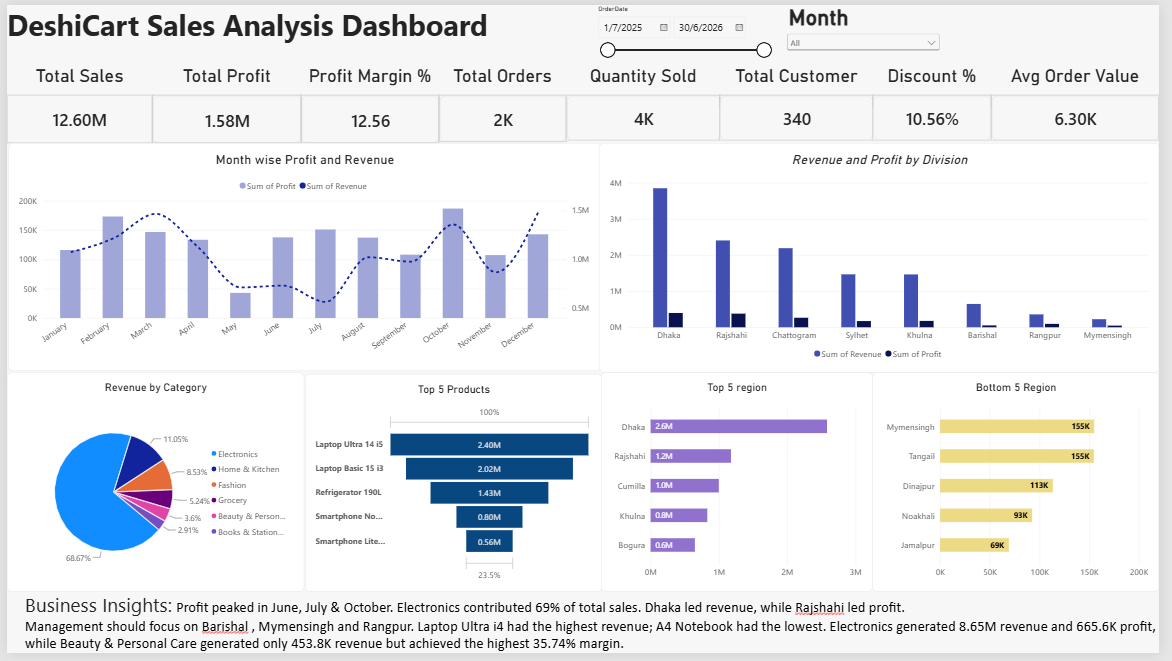

Layout of this report page (visuals, bound fields, positions):
{"tool":"powerbi","page":{"name":"Page 1","canvas":[1920,1080],"ordinal":0},"visuals":[{"type":"cardVisual","title":"Total Sales","fields":{"Data":["Sum(Clean_data.Revenue)"]},"box":[0,100,242,130],"z":0},{"type":"cardVisual","title":"Total Profit","fields":{"Data":["Sum(Clean_data.Profit)"]},"box":[242,100,248,130],"z":1000},{"type":"cardVisual","title":"Profit Margin %","fields":{"Data":["Clean_data.Profit Margin %"]},"box":[490,100,230,130],"z":2000},{"type":"cardVisual","title":"Total Orders","fields":{"Data":["CountNonNull(Clean_data.OrderID)"]},"box":[720,100,212,128],"z":3000},{"type":"cardVisual","title":"Quantity Sold","fields":{"Data":["Sum(Clean_data.Quantity)"]},"box":[932,100,256,126],"z":4000},{"type":"cardVisual","title":"Avg Order Value","fields":{"Data":["Clean_data.Avg Order Value"]},"box":[1640,100,280,126],"z":5000},{"type":"cardVisual","title":"Discount %","fields":{"Data":["Avg(Clean_data.Discount)"]},"box":[1442,100,198,126],"z":6000},{"type":"cardVisual","title":"Total Customer","fields":{"Data":["Count(Clean_data.CustomerID)"]},"box":[1188,100,256,126],"z":7000},{"type":"lineStackedColumnComboChart","title":" Month wise Profit and  Revenue","fields":{"Category":["Clean_data.OrderDate.Variation.Date Hierarchy.Month"],"Y2":["Sum(Clean_data.Revenue)"],"Y":["Sum(Clean_data.Profit)"]},"box":[2,230,987.5,380],"z":8000},{"type":"pieChart","title":"Revenue by Category","fields":{"Category":["Clean_data.Category"],"Y":["Sum(Clean_data.Revenue)"]},"box":[0,612,495,365],"z":9000},{"type":"clusteredColumnChart","title":"Revenue and Profit by Division","fields":{"Category":["Clean_data.Division"],"Y":["Sum(Clean_data.Revenue)","Sum(Clean_data.Profit)"]},"box":[988,230,932.5,382.5],"z":10000},{"type":"funnel","title":"Top 5 Products","fields":{"Category":["Clean_data.ProductName"],"Y":["Sum(Clean_data.Revenue)"]},"box":[496.3,615.6,493.9,362.7],"z":11000},{"type":"clusteredBarChart","title":"Top 5 region","fields":{"Category":["Clean_data.District"],"Y":["Sum(Clean_data.Revenue)"]},"box":[990,612,452.5,365],"z":12000},{"type":"clusteredBarChart","title":"Bottom 5 Region","fields":{"Category":["Clean_data.District"],"Y":["Sum(Clean_data.Revenue)"]},"box":[1442,612,477.5,365],"z":13000},{"type":"textbox","box":[31,978.2,1889.6,102.6],"z":14000},{"type":"textbox","box":[0,0,932,78],"z":15000},{"type":"slicer","fields":{"Values":["Clean_data.OrderDate"]},"box":[978,0,300,100],"z":16000},{"type":"slicer","fields":{"Values":["Clean_data.OrderDate.Variation.Date Hierarchy.Month"]},"box":[1296,0,264,100],"z":17000}]}

Visuals, with their boxes in screenshot pixels (x1, y1, x2, y2), scaled from the page's 1920x1080 canvas onto the 1172x661 screenshot:
"Total Sales" cardVisual: crop(0, 61, 148, 141)
"Total Profit" cardVisual: crop(148, 61, 299, 141)
"Profit Margin %" cardVisual: crop(299, 61, 440, 141)
"Total Orders" cardVisual: crop(440, 61, 569, 140)
"Quantity Sold" cardVisual: crop(569, 61, 725, 138)
"Avg Order Value" cardVisual: crop(1001, 61, 1171, 138)
"Discount %" cardVisual: crop(880, 61, 1001, 138)
"Total Customer" cardVisual: crop(725, 61, 881, 138)
" Month wise Profit and  Revenue" lineStackedColumnComboChart: crop(1, 141, 604, 373)
"Revenue by Category" pieChart: crop(0, 375, 302, 598)
"Revenue and Profit by Division" clusteredColumnChart: crop(603, 141, 1171, 375)
"Top 5 Products" funnel: crop(303, 377, 604, 599)
"Top 5 region" clusteredBarChart: crop(604, 375, 881, 598)
"Bottom 5 Region" clusteredBarChart: crop(880, 375, 1171, 598)
textbox: crop(19, 599, 1171, 660)
textbox: crop(0, 0, 569, 48)
slicer - Clean_data.OrderDate: crop(597, 0, 780, 61)
slicer - Clean_data.OrderDate.Variation.Date Hierarchy.Month: crop(791, 0, 952, 61)
